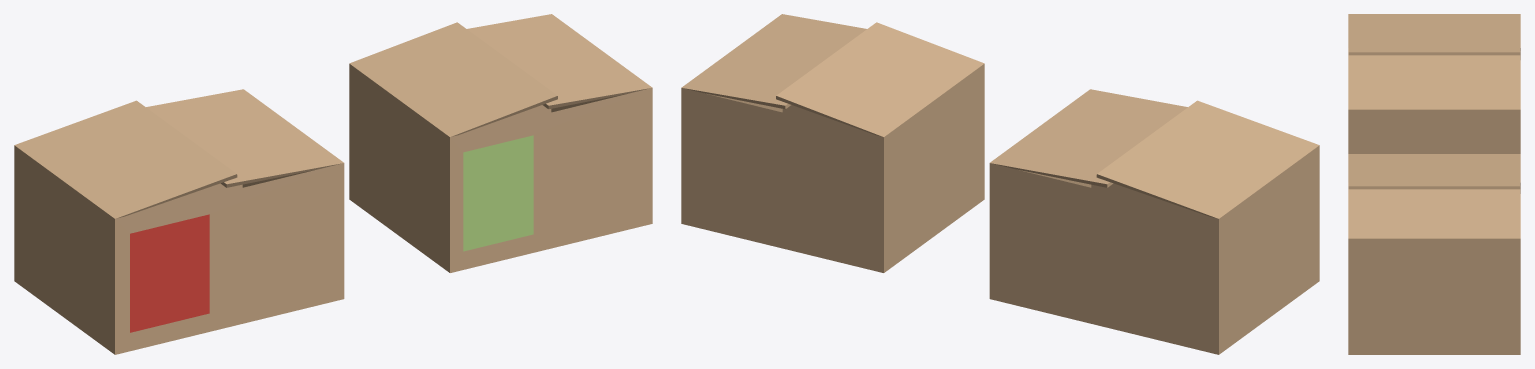
The model's file is CARDBOARDS.fbx.
3 renders of one model, left to right at view 1: azimuth 30°, elevation 25°; view 2: azimuth 150°, elevation 25°; view 3: azimuth 270°, elevation 25°, orthographic. The views are drawn at different scales.
Visible parts, largest first — view 1: Cube.001, Cube.002; view 2: Cube.001, Cube.002; view 3: Cube.002, Cube.001.
Boxes of the visible parts, <box> form: Cube.001: <box>14,89,344,354</box>; Cube.002: <box>349,14,652,272</box>; Cube.001: <box>989,89,1319,354</box>; Cube.002: <box>681,14,984,272</box>; Cube.002: <box>1348,154,1520,354</box>; Cube.001: <box>1348,14,1520,153</box>.
Size of the model in its own units: 474 by 127 by 154.
